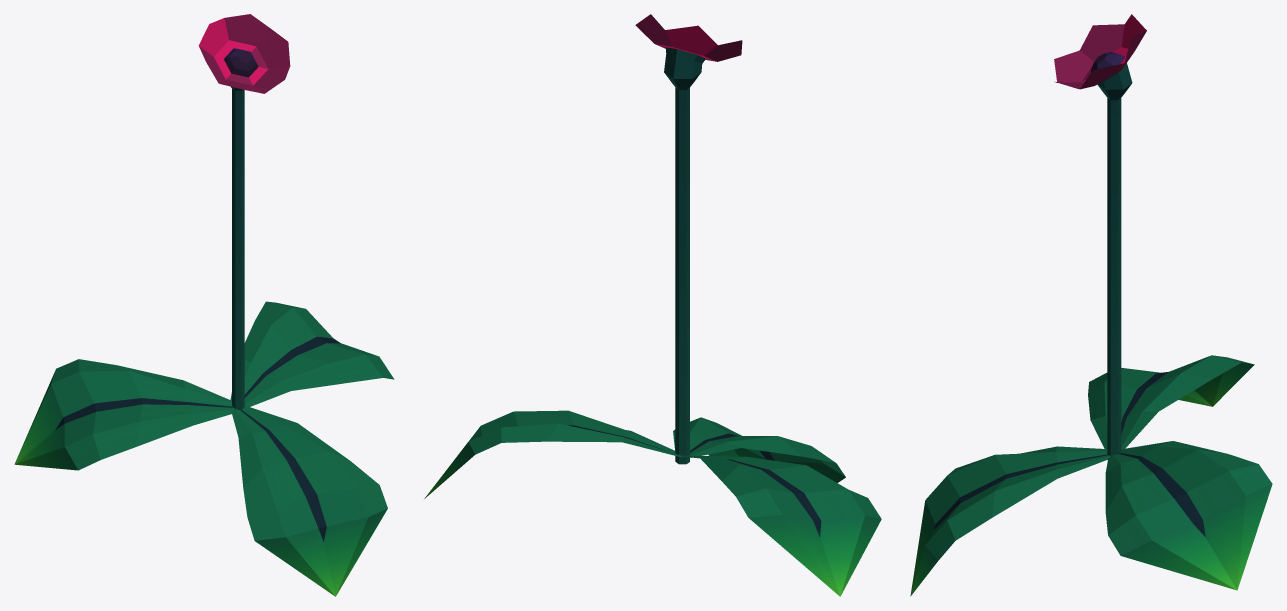
Rendered from Flowers_RedShadeLicker.fbx.
3 renders of one model, left to right at view 1: azimuth 30°, elevation 25°; view 2: azimuth 150°, elevation 25°; view 3: azimuth 270°, elevation 25°, orthographic. The views are drawn at different scales.
Parts seen in each view (by area): view 1: Plane.021; view 2: Plane.021; view 3: Plane.021.
Part boxes in pixels (x1,y1,x2,y2): Plane.021: (14, 14, 394, 596); Plane.021: (424, 14, 881, 596); Plane.021: (910, 14, 1272, 596).
Size of the model in its own units: 41.25 by 57.23 by 33.09.
